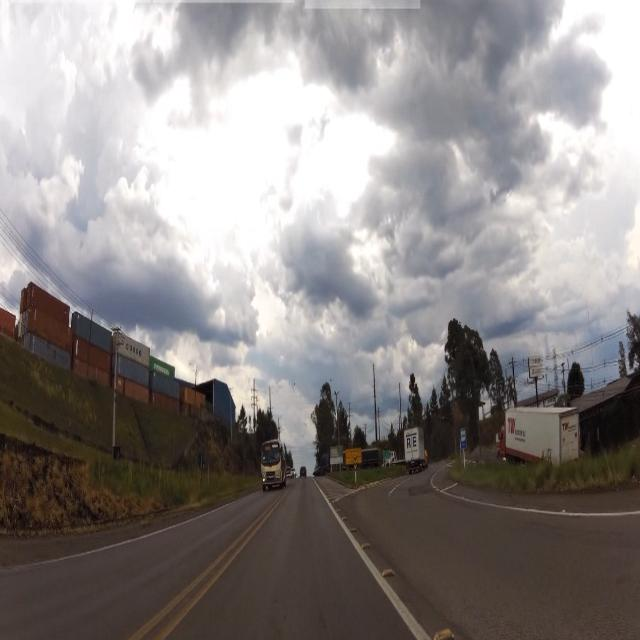S-14: (459, 424, 467, 451)
